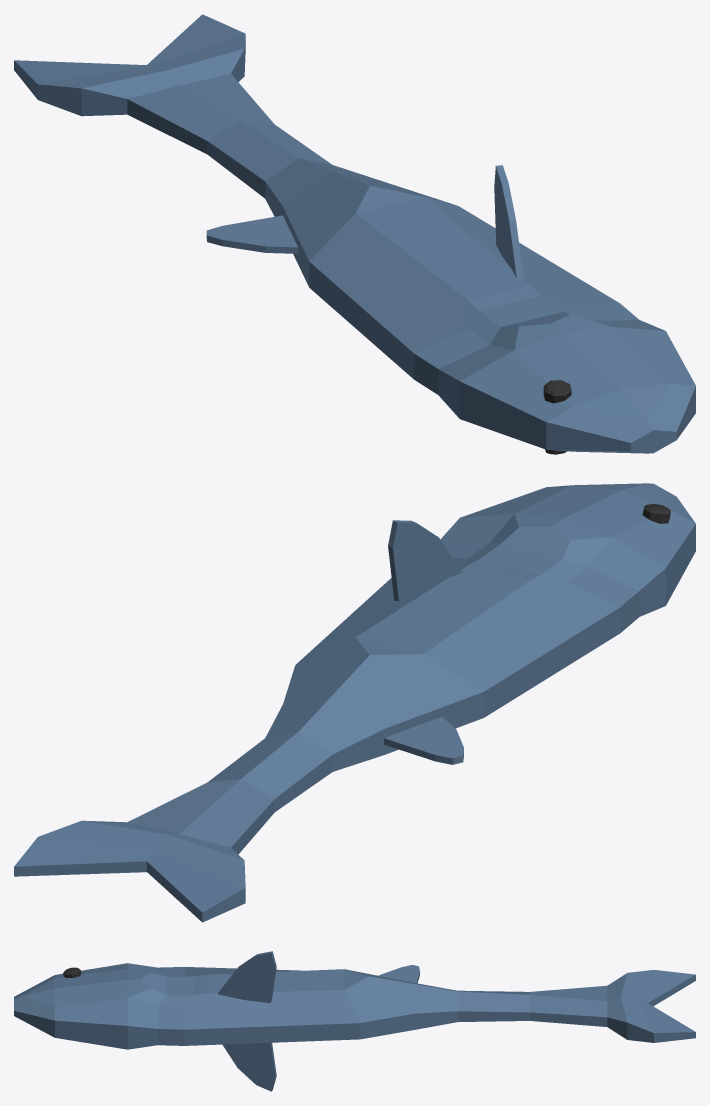
The model's file is F_Fish_A.fbx.
3 renders of one model, top to bottom at view 1: azimuth 30°, elevation 25°; view 2: azimuth 150°, elevation 25°; view 3: azimuth 270°, elevation 25°, orthographic. The views are drawn at different scales.
Parts seen in each view (by area): view 1: F_Fish_A; view 2: F_Fish_A; view 3: F_Fish_A.
Part boxes in pixels (<box>): F_Fish_A: <box>14,14,695,454</box>; F_Fish_A: <box>14,483,695,922</box>; F_Fish_A: <box>14,951,695,1091</box>.
Bounding box in the file's own units: 17.19 × 15.71 × 69.99.
